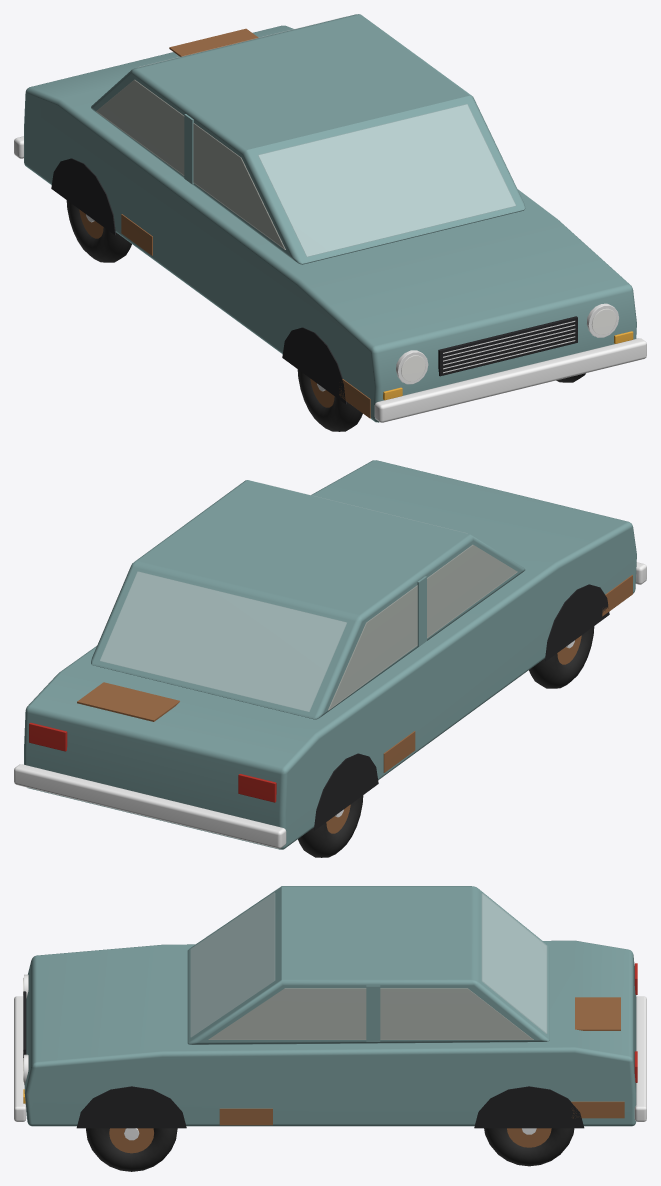
Rendered from car_wreck.glb.
3 views of the same model, one above another, from view 1: azimuth 30°, elevation 25°; view 2: azimuth 150°, elevation 25°; view 3: azimuth 270°, elevation 25° (orthographic). The views are drawn at different scales.
Visible parts, largest first — view 1: SM_car_wreck; view 2: SM_car_wreck; view 3: SM_car_wreck.
Boxes of the visible parts, x1,y1,x2,y2 form: SM_car_wreck: (14, 14, 646, 431); SM_car_wreck: (14, 460, 646, 857); SM_car_wreck: (14, 886, 646, 1171).
Size of the model in its own units: 1.74 by 1.37 by 4.14.
